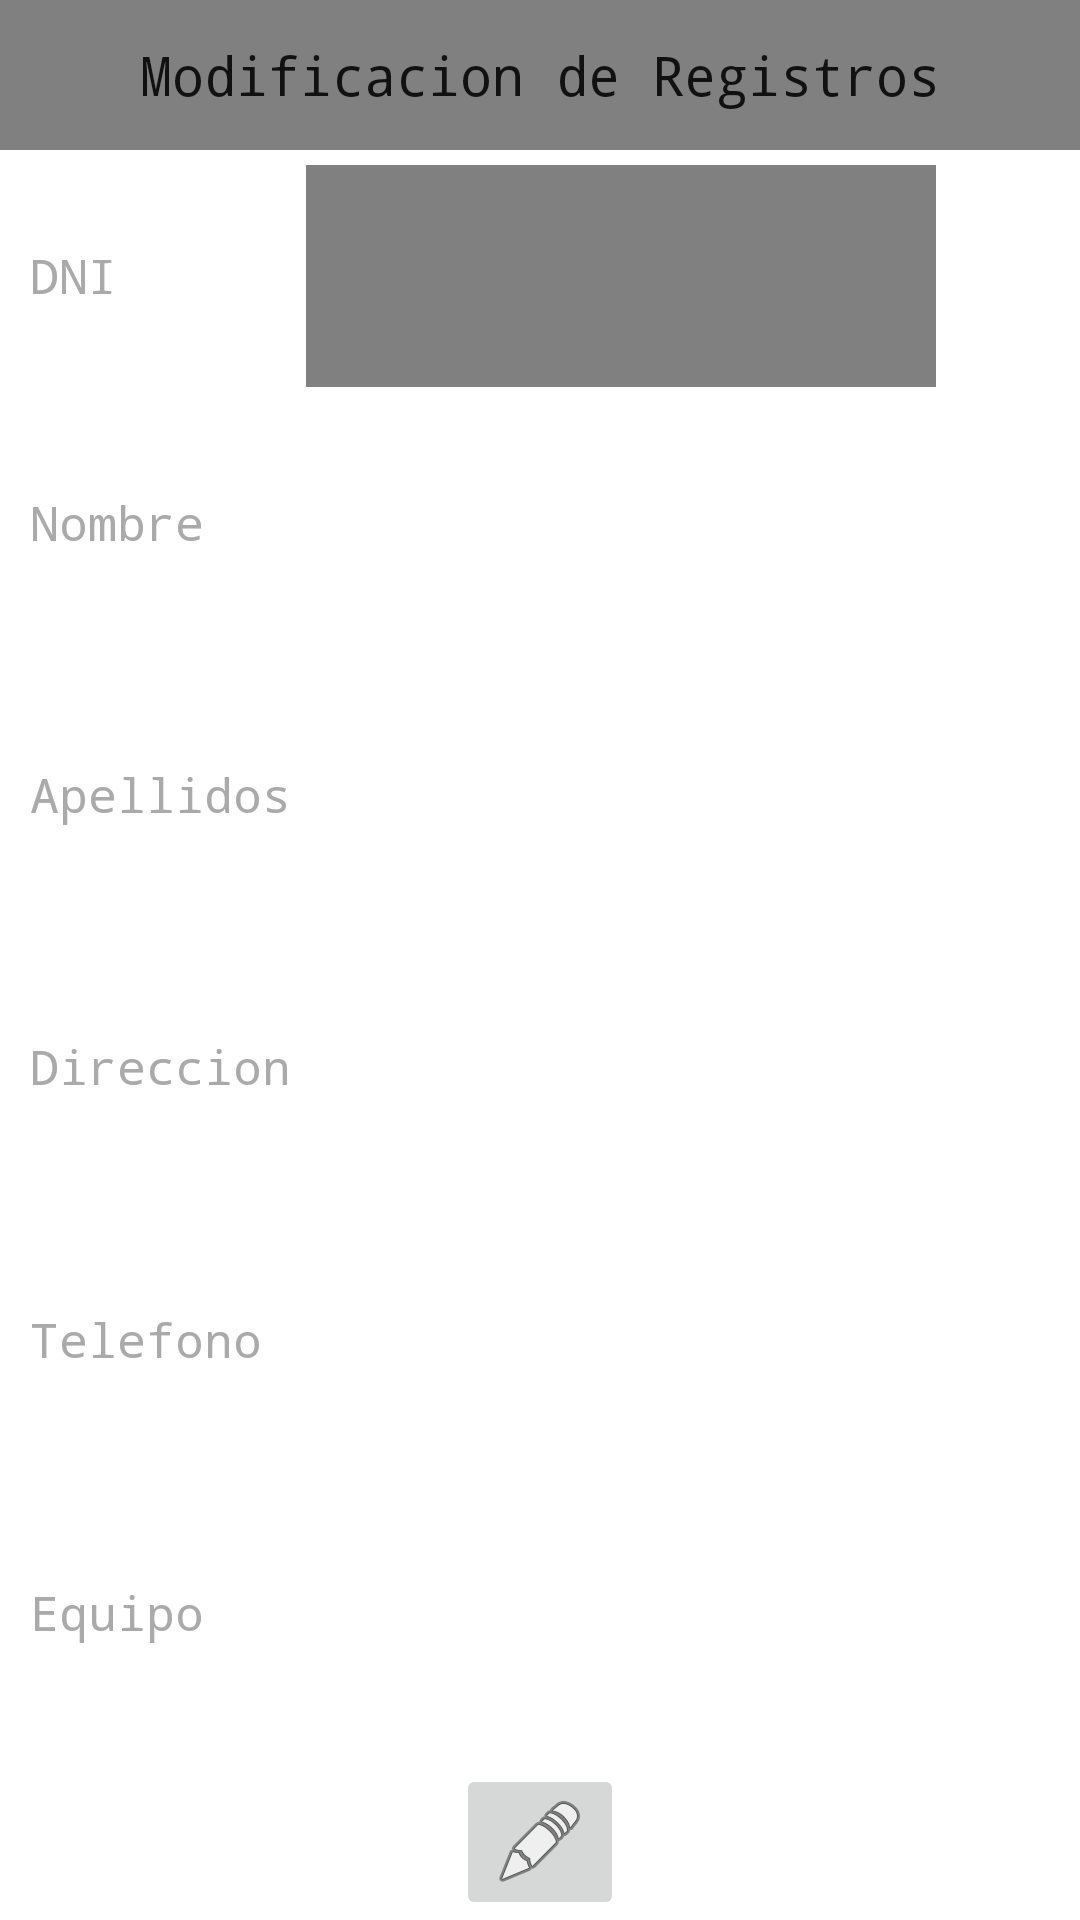

Named icons in this screenshot (1080 x 1920) and their centers, [x,y]:
edit: [540,1842]
